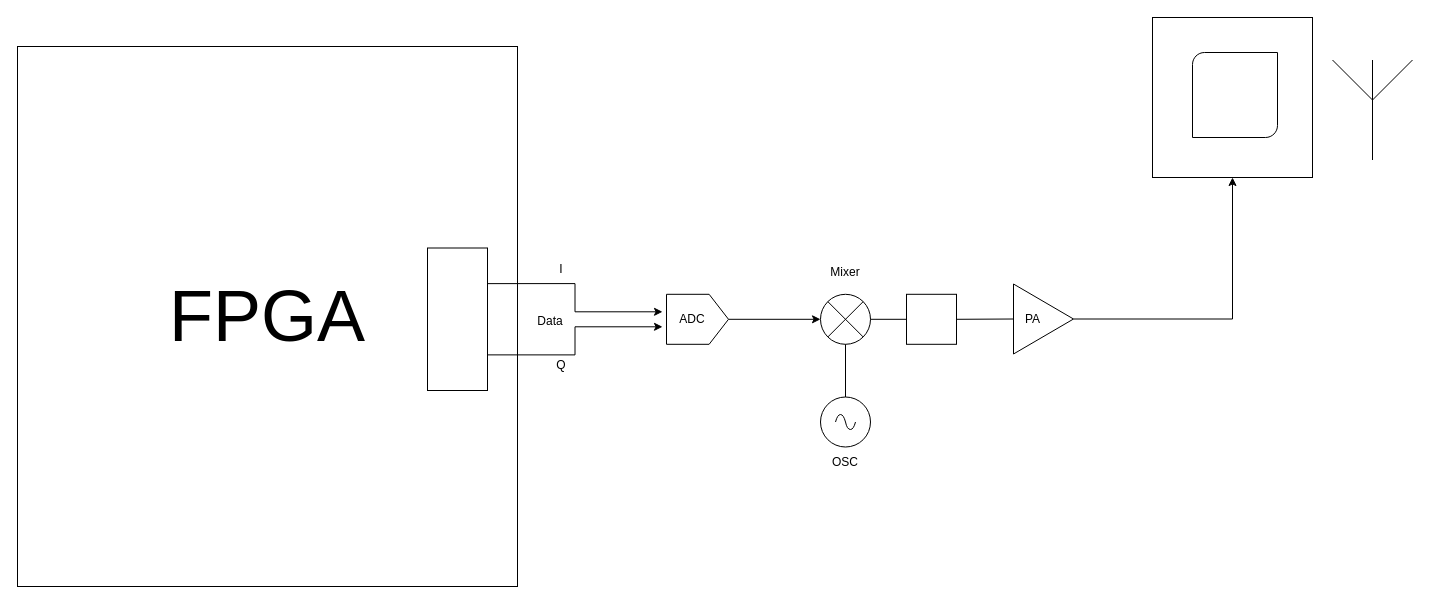
Image size: 1430x604. Some labels were removed from this diagram. Each missing label, with the centre of its shape:
"DSP" goes at (x=457, y=318).
"Filter" goes at (x=931, y=318).
